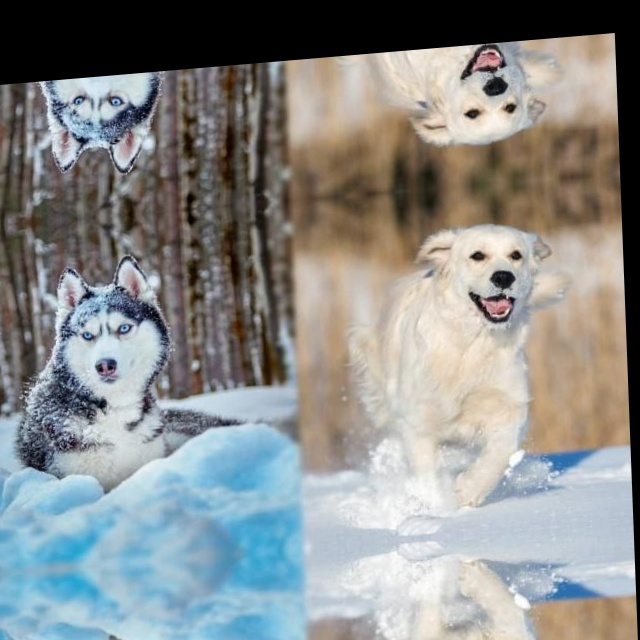dog: (337, 207, 570, 519), (14, 252, 211, 517), (331, 38, 557, 167), (7, 69, 198, 178), (351, 550, 577, 640), (27, 610, 218, 640)
